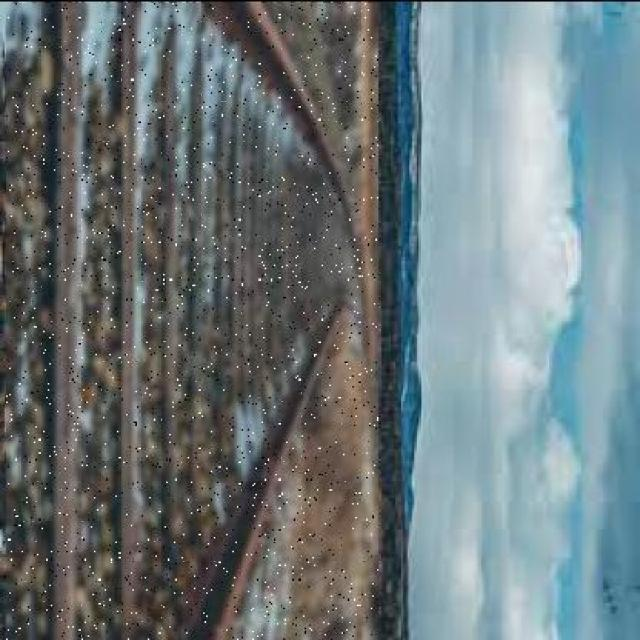rail: (7, 3, 379, 640)
